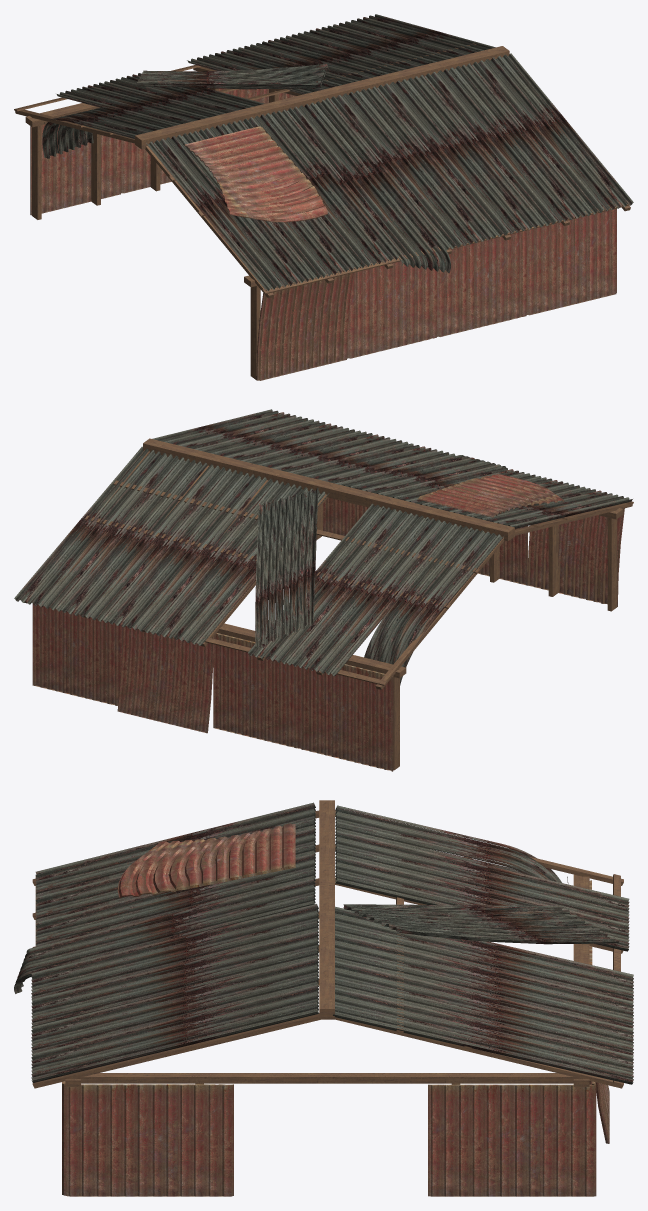
The model's file is hangar.fbx.
3 views of the same model, one above another, from view 1: azimuth 30°, elevation 25°; view 2: azimuth 150°, elevation 25°; view 3: azimuth 270°, elevation 25° (orthographic). The views are drawn at different scales.
Parts seen in each view (by area): view 1: Hangar_Bootcamo; view 2: Hangar_Bootcamo; view 3: Hangar_Bootcamo.
Boxes of the visible parts, bbox=[...] form: Hangar_Bootcamo: bbox=[14, 14, 633, 380]; Hangar_Bootcamo: bbox=[14, 409, 633, 771]; Hangar_Bootcamo: bbox=[14, 800, 633, 1196].
Size of the model in its own units: 13.15 by 5.57 by 16.44.
